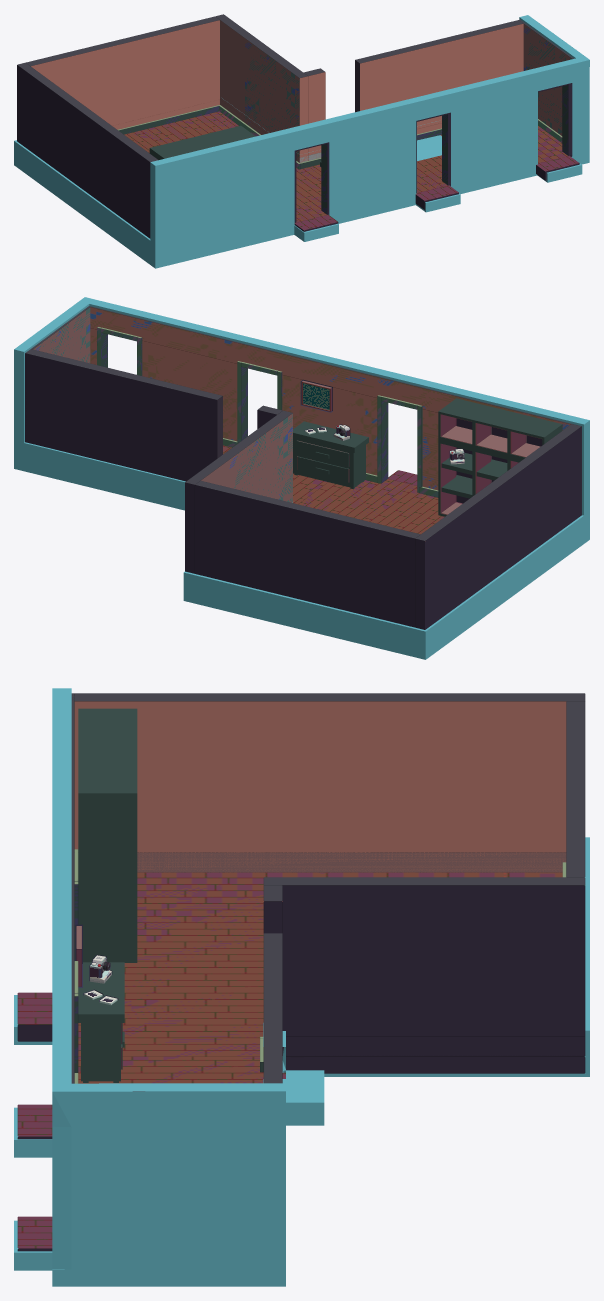
File: hiddenwall.fbx
3 views of the same model, one above another, from view 1: azimuth 30°, elevation 25°; view 2: azimuth 150°, elevation 25°; view 3: azimuth 270°, elevation 25° (orthographic). The views are drawn at different scales.
Visible parts, largest first — view 1: map border, wall front full, floor, frames, wall behind, cuboid_12, wall front open; view 2: wall front full, map border, wall behind, floor, cuboid_12, frames, table1 border, tube_2, tube_1, tube_3, tube_5, artwork (+1 smaller); view 3: wall front full, map border, floor, wall front open, cuboid_12, table1 border, wall behind, frames.
Boxes of the visible parts, bbox=[...] form: map border: bbox=[14, 15, 589, 268]; wall front full: bbox=[17, 14, 523, 238]; floor: bbox=[124, 111, 579, 231]; frames: bbox=[117, 83, 571, 222]; wall behind: bbox=[295, 19, 573, 184]; cuboid_12: bbox=[149, 125, 255, 159]; wall front open: bbox=[112, 99, 441, 162]; wall front full: bbox=[25, 349, 581, 629]; map border: bbox=[14, 297, 589, 659]; wall behind: bbox=[25, 306, 581, 514]; floor: bbox=[223, 445, 444, 534]; cuboid_12: bbox=[438, 398, 562, 516]; frames: bbox=[97, 327, 438, 497]; table1 border: bbox=[293, 421, 368, 489]; tube_2: bbox=[440, 443, 472, 514]; tube_1: bbox=[475, 423, 507, 452]; tube_3: bbox=[440, 414, 472, 444]; tube_5: bbox=[510, 431, 542, 457]; artwork: bbox=[303, 383, 329, 409]; wall front full: bbox=[72, 693, 585, 1083]; map border: bbox=[14, 688, 589, 1286]; floor: bbox=[17, 872, 585, 1251]; wall front open: bbox=[137, 852, 585, 1056]; cuboid_12: bbox=[78, 708, 137, 962]; table1 border: bbox=[78, 962, 124, 1082]; wall behind: bbox=[71, 693, 144, 1091]; frames: bbox=[74, 849, 566, 1083].
Size of the model in its own units: 3153 by 712 by 1903.
Materials: 13 (13 with a texture image).
